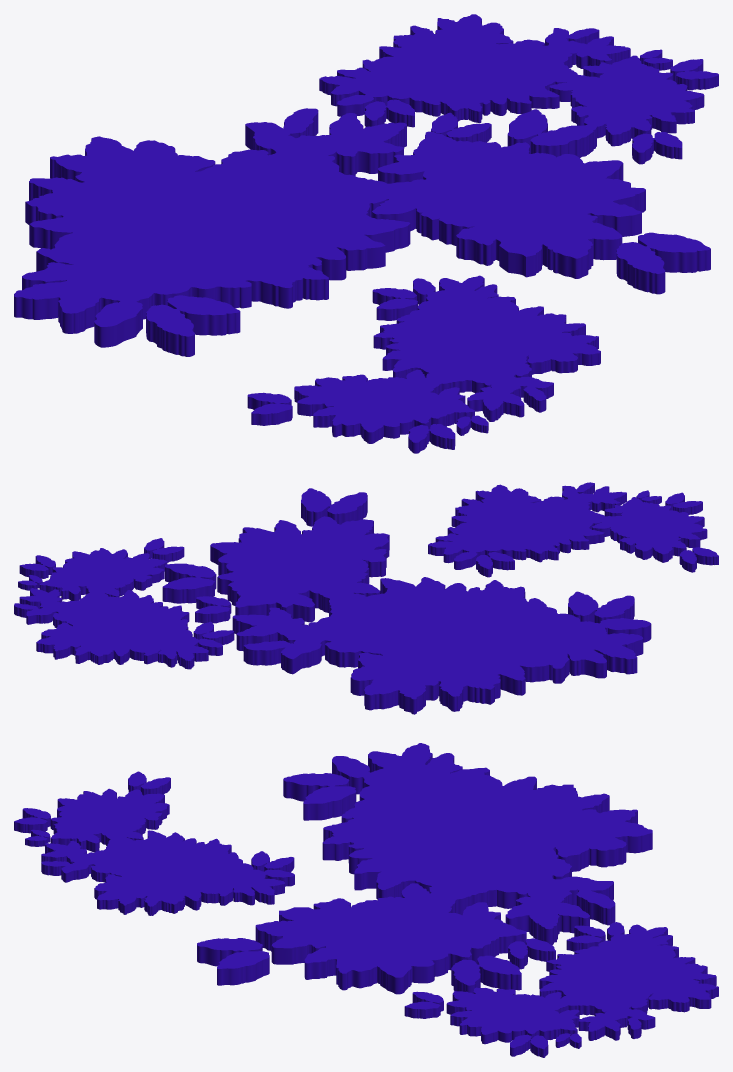
File: shade_01.glb
3 views of the same model, one above another, from view 1: azimuth 30°, elevation 25°; view 2: azimuth 150°, elevation 25°; view 3: azimuth 270°, elevation 25° (orthographic). The views are drawn at different scales.
Visible parts, largest first — view 1: Shade_01; view 2: Shade_01; view 3: Shade_01.
Part boxes in pixels (<box>): Shade_01: <box>14,14,718,453</box>; Shade_01: <box>14,482,718,714</box>; Shade_01: <box>14,743,718,1057</box>.
Bounding box in the file's own units: 3.48 × 0.089 × 3.43.
